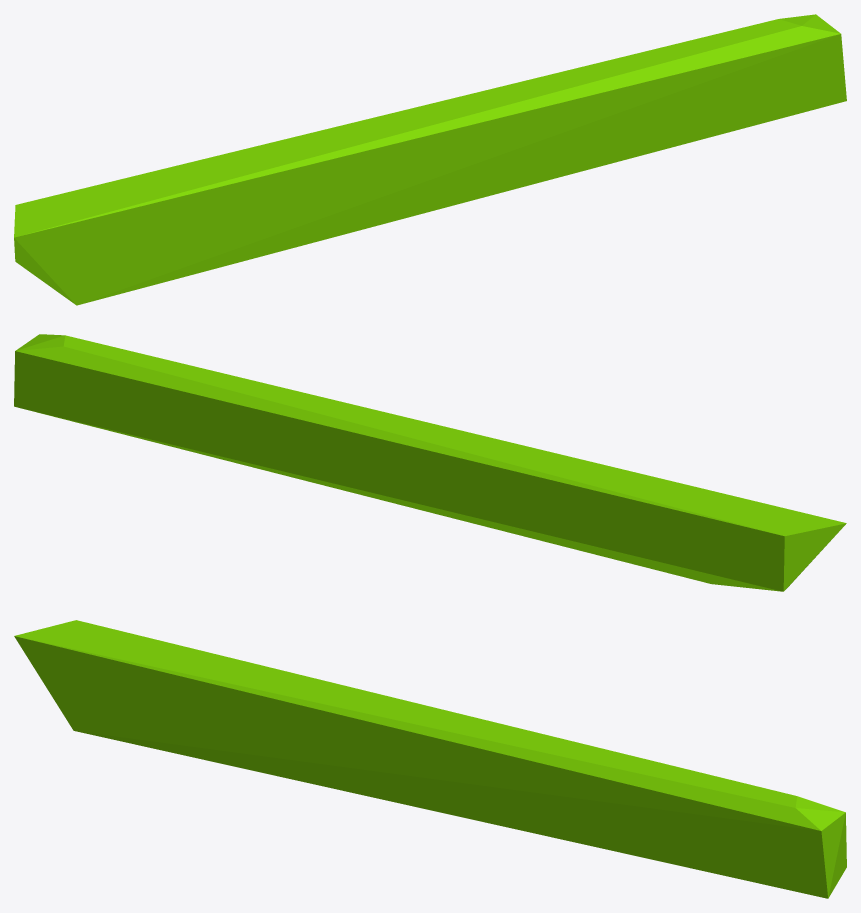
Rendered from recycle_bin_convex_piece_010.obj.
3 views of the same model, one above another, from view 1: azimuth 30°, elevation 25°; view 2: azimuth 150°, elevation 25°; view 3: azimuth 330°, elevation 25° (orthographic). The views are drawn at different scales.
Size of the model in its own units: 0.3165 by 0.033 by 0.0213.
